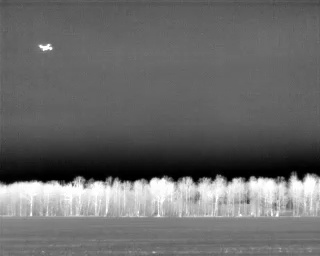DRONE: (36, 40, 57, 56)
